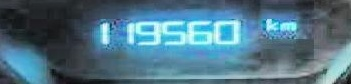0: (209, 17, 240, 45)
1: (94, 19, 112, 44), (120, 20, 131, 45)
5: (160, 17, 185, 45)
6: (184, 17, 209, 45)
9: (131, 19, 158, 46)
X: (260, 16, 276, 31), (276, 20, 296, 30)
